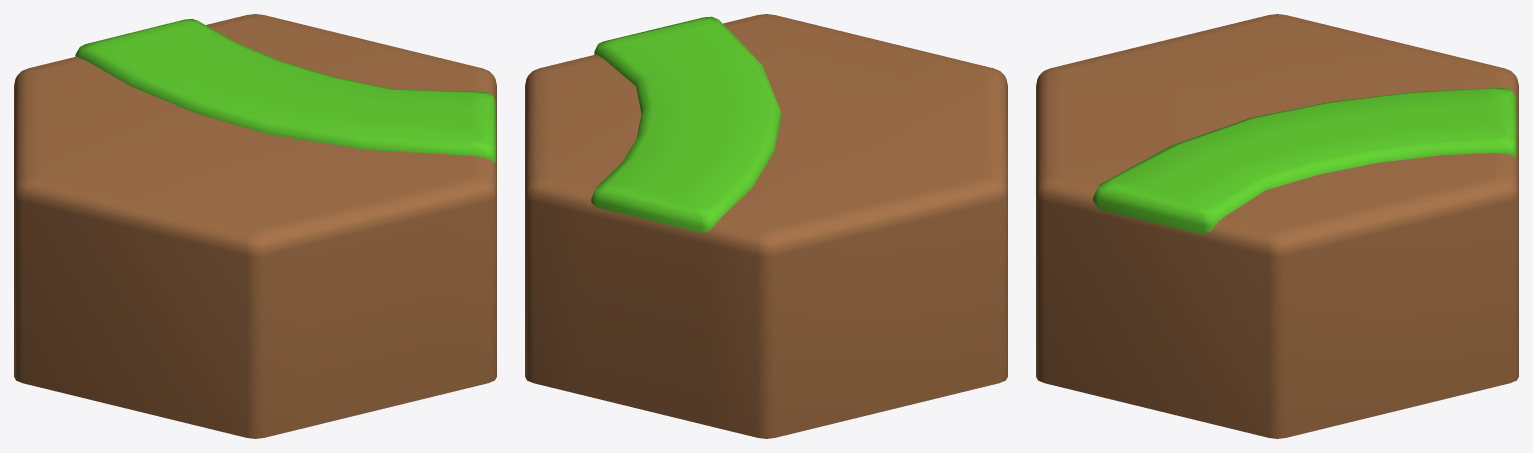
File: Tile_Sand_Path_Turn_L.fbx
The picture shows the model from 3 angles, left to right: view 1: azimuth 30°, elevation 25°; view 2: azimuth 150°, elevation 25°; view 3: azimuth 270°, elevation 25°; orthographic projection.
Parts seen in each view (by area): view 1: Tile_Sand_Path_Turn_L; view 2: Tile_Sand_Path_Turn_L; view 3: Tile_Sand_Path_Turn_L.
Boxes of the visible parts, x1=… form: Tile_Sand_Path_Turn_L: x1=14, y1=14, x2=496, y2=438; Tile_Sand_Path_Turn_L: x1=525, y1=14, x2=1007, y2=438; Tile_Sand_Path_Turn_L: x1=1036, y1=14, x2=1518, y2=438.
Bounding box in the file's own units: 9302 × 3850 × 8129.
